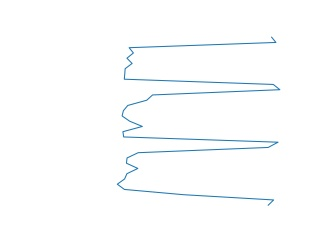majorRiverChannelBar: (115, 38, 283, 206)
